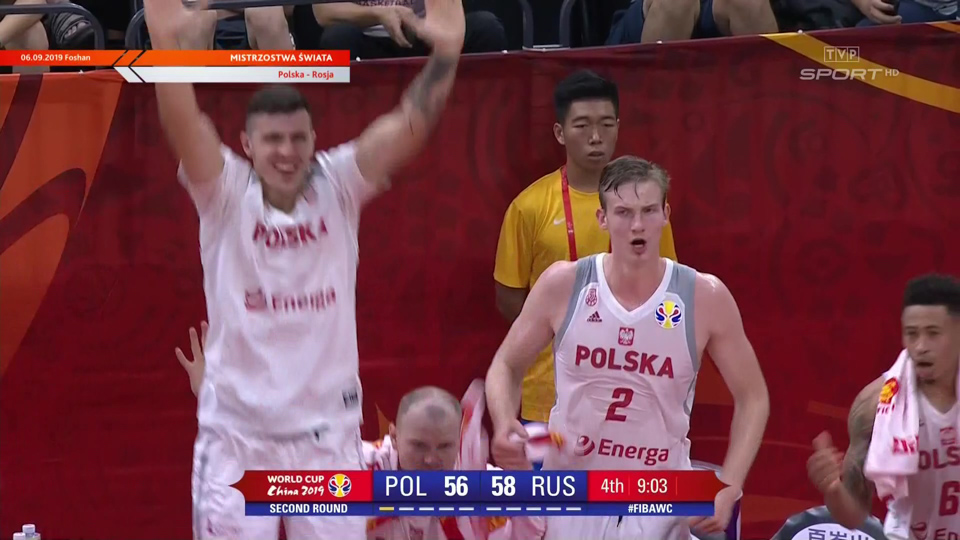Adidas: (586, 310, 604, 325)
